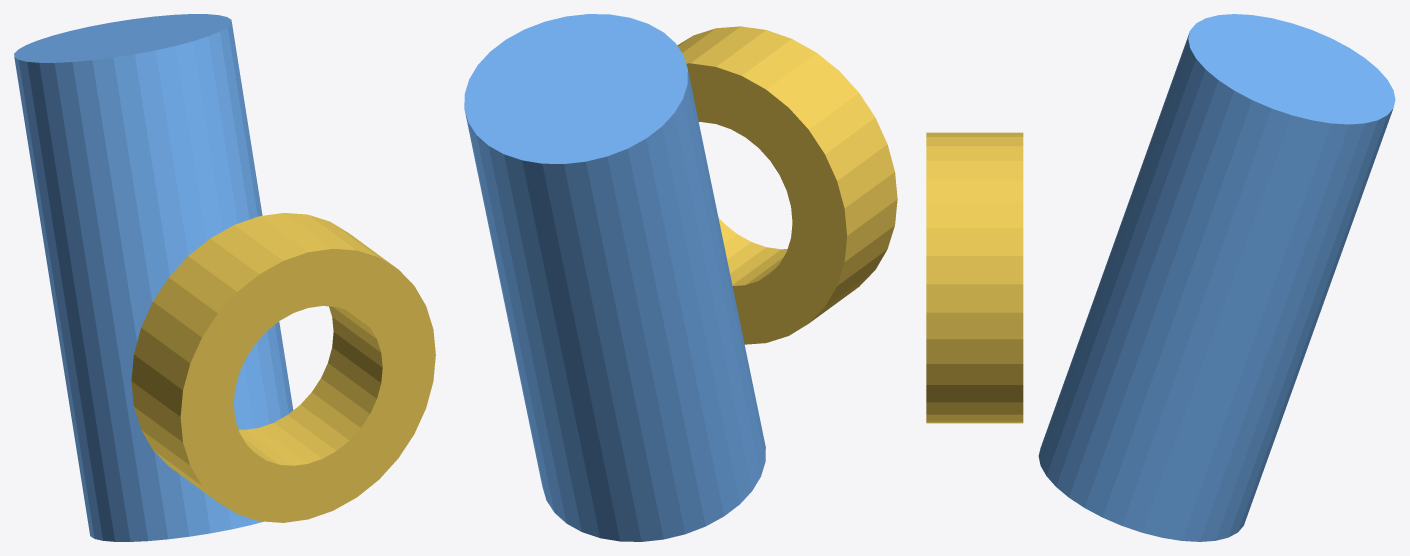
The model's file is motriz.glb.
The picture shows the model from 3 angles, left to right: view 1: azimuth 30°, elevation 25°; view 2: azimuth 150°, elevation 25°; view 3: azimuth 270°, elevation 25°; orthographic projection. The views are drawn at different scales.
Visible parts, largest first — view 1: world; view 2: world; view 3: world.
Boxes of the visible parts, box(x1,y1,x2,y2) form: world: box(14, 14, 435, 541); world: box(464, 14, 897, 541); world: box(926, 14, 1395, 541).
Bounding box in the file's own units: 1.2 × 2.18 × 1.94.
